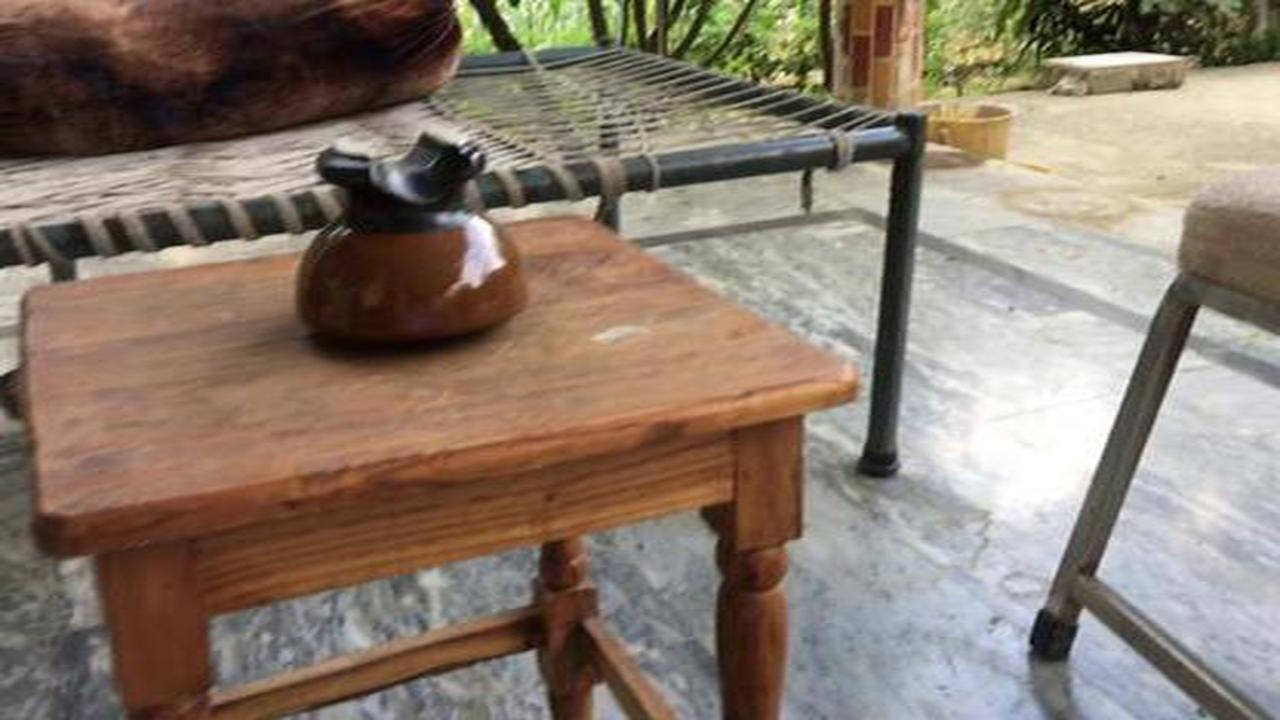insulator_pin: (277, 120, 548, 369)
